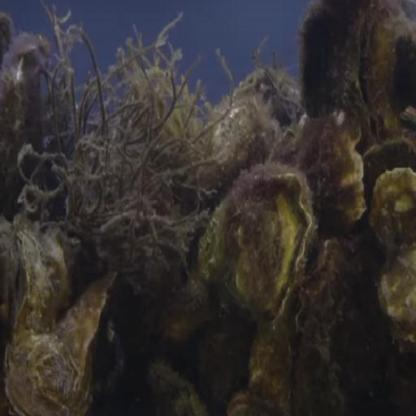Oyster- Indeterminate: (228, 390, 272, 416)
Oyster-Closed: (288, 231, 408, 416), (195, 166, 316, 317), (11, 268, 113, 416), (264, 111, 374, 233), (297, 0, 370, 125), (353, 7, 405, 149), (7, 223, 68, 344), (254, 288, 300, 416), (143, 361, 213, 416), (375, 167, 416, 246), (388, 250, 416, 338), (0, 217, 19, 329)
